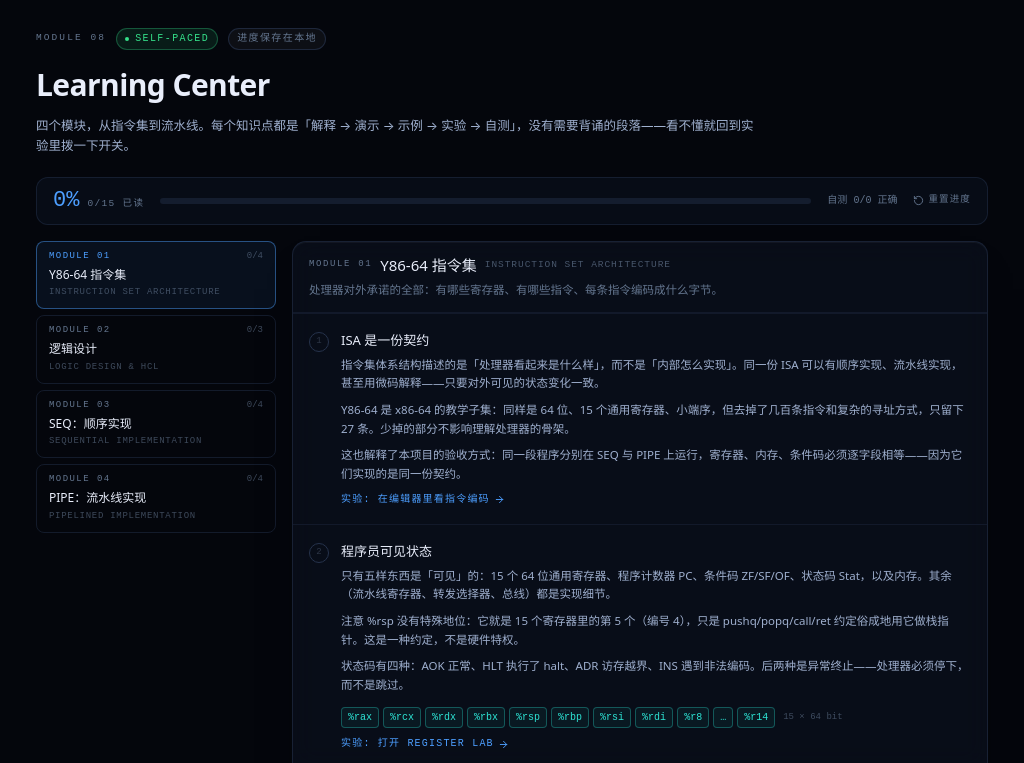
Test case: Learning Center › 切换模块会换内容
This screenshot has width=1024, height=763.
Click the button "MODULE 04 0/4 PIPE：流水线实现 Pipelined Implementation": (156, 498) top-left (36, 464), bottom-right (276, 532)
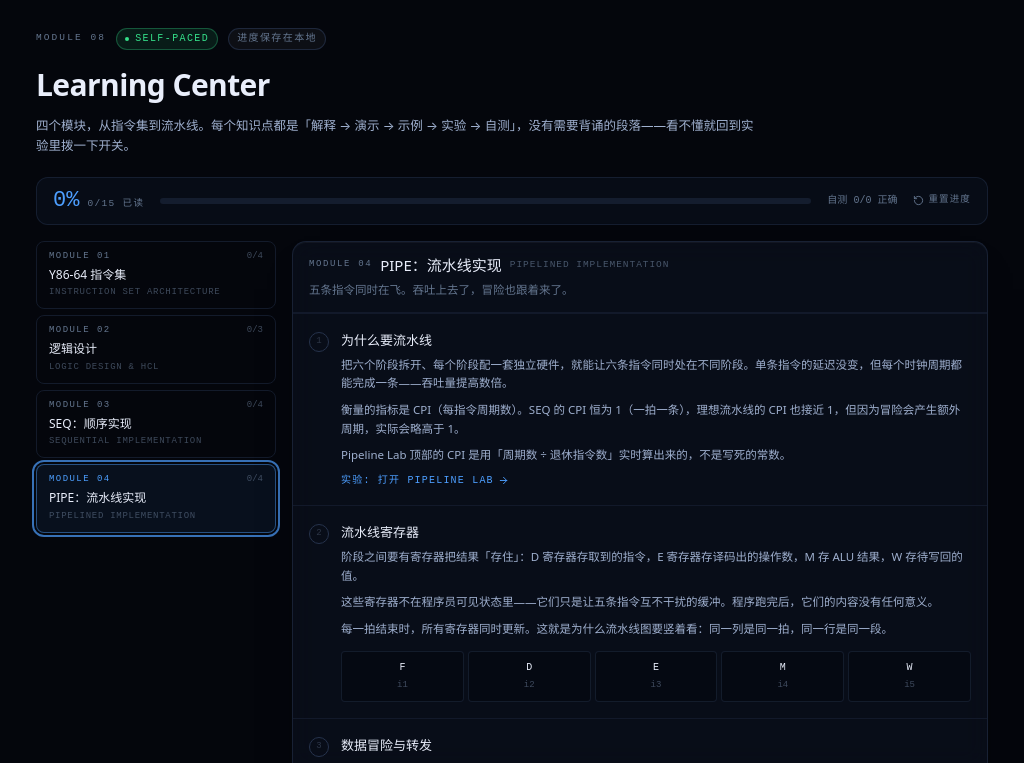
Expected: the heading "PIPE：流水线实现" is shown, top-left (380, 254), bottom-right (502, 277)
Expected: the heading "为什么要流水线" is shown, top-left (341, 331), bottom-right (432, 349)
